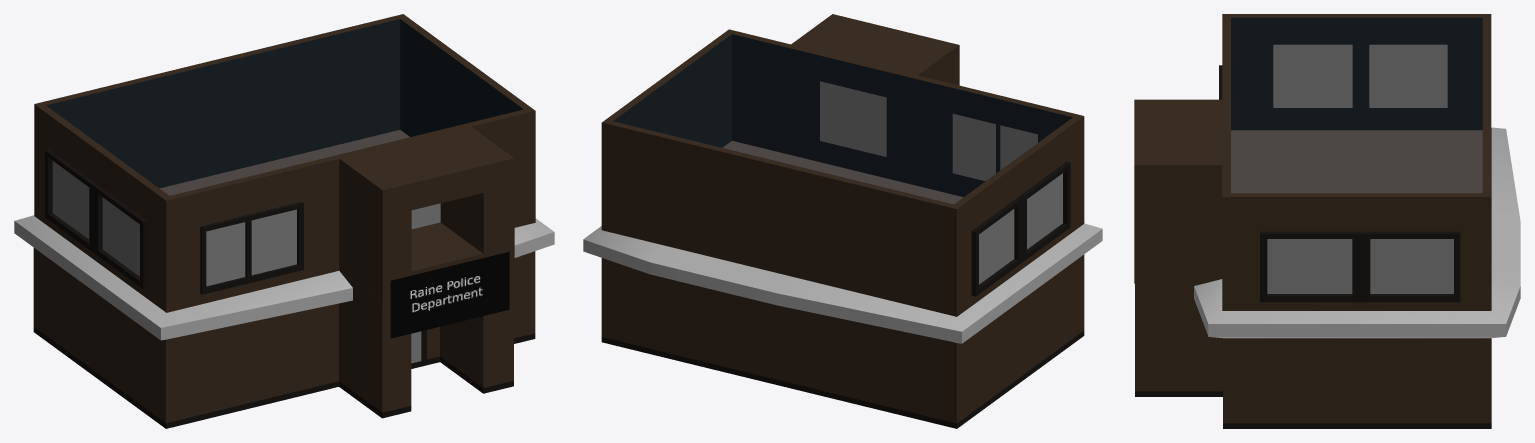
Rendered from police department.obj.
3 renders of one model, left to right at view 1: azimuth 30°, elevation 25°; view 2: azimuth 150°, elevation 25°; view 3: azimuth 270°, elevation 25°, orthographic. The views are drawn at different scales.
Parts seen in each view (by area): view 1: pCube5, pCube4, pPlane1; view 2: pCube5, pCube4; view 3: pCube5, pCube4.
Part boxes in pixels (left/top/right/bottom): pCube5: left=34, top=14, right=535, bottom=312; pCube4: left=14, top=215, right=554, bottom=428; pPlane1: left=390, top=251, right=509, bottom=338; pCube5: left=601, top=14, right=1084, bottom=316; pCube4: left=583, top=223, right=1102, bottom=428; pCube5: left=1134, top=14, right=1491, bottom=310; pCube4: left=1135, top=127, right=1520, bottom=428.
Size of the model in its own units: 10.95 by 6.07 by 9.22.
